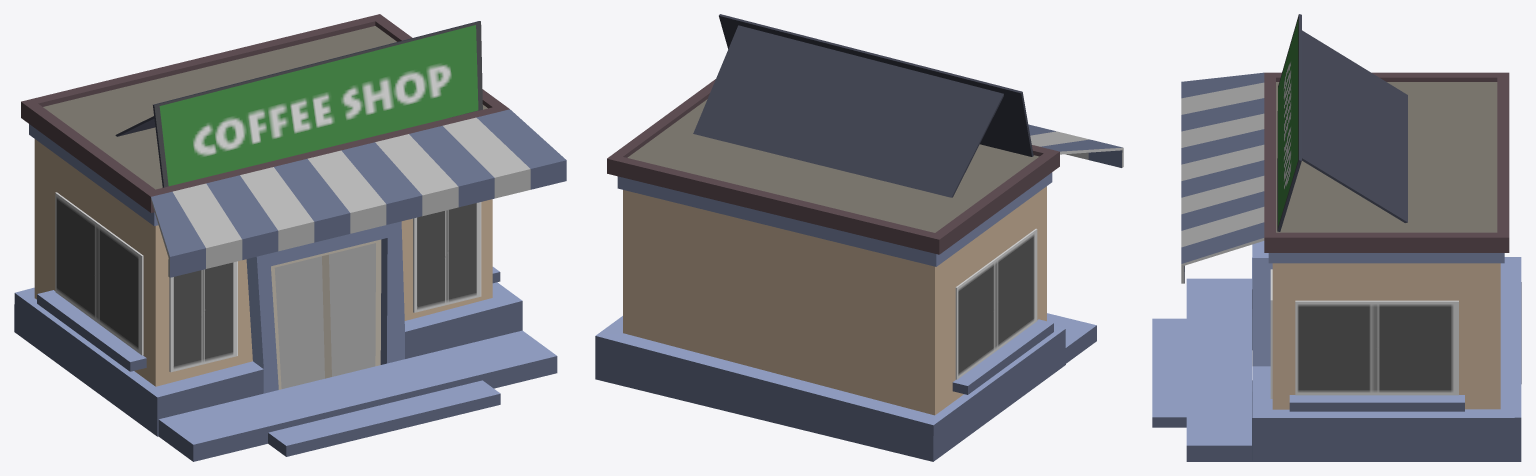
Rendered from coffeeShop01_color03.fbx.
3 renders of one model, left to right at view 1: azimuth 30°, elevation 25°; view 2: azimuth 150°, elevation 25°; view 3: azimuth 270°, elevation 25°, orthographic. The views are drawn at different scales.
Visible parts, largest first — view 1: coffeeShop01_color03; view 2: coffeeShop01_color03; view 3: coffeeShop01_color03.
Boxes of the visible parts, <box> form: coffeeShop01_color03: <box>14,14,566,461</box>; coffeeShop01_color03: <box>595,14,1123,461</box>; coffeeShop01_color03: <box>1152,14,1521,461</box>.
Size of the model in its own units: 886 by 666 by 758.
